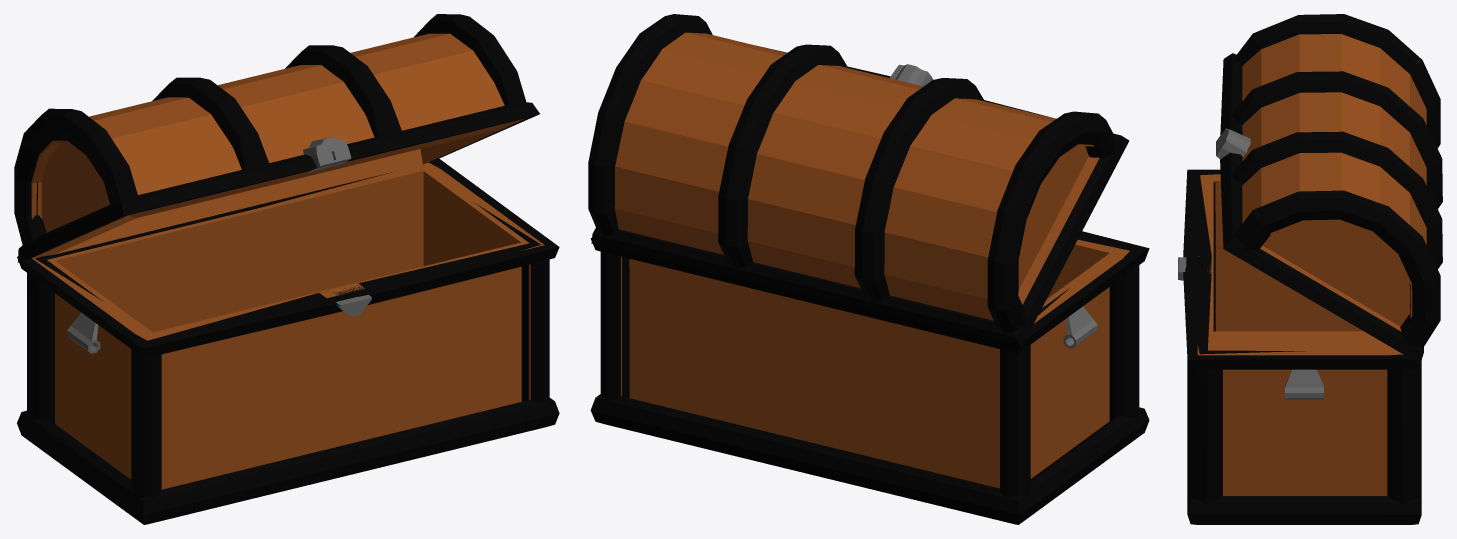
The model's file is Wooden Chest.fbx.
3 renders of one model, left to right at view 1: azimuth 30°, elevation 25°; view 2: azimuth 150°, elevation 25°; view 3: azimuth 270°, elevation 25°, orthographic. The views are drawn at different scales.
Parts seen in each view (by area): view 1: Chest Bottom, Chest Top; view 2: Chest Top, Chest Bottom; view 3: Chest Top, Chest Bottom.
Part boxes in pixels (x1,y1,x2,y2): Chest Bottom: [17, 158, 559, 524]; Chest Top: [14, 14, 539, 262]; Chest Top: [588, 14, 1129, 348]; Chest Bottom: [590, 231, 1149, 524]; Chest Top: [1216, 14, 1442, 363]; Chest Bottom: [1178, 169, 1421, 524].
Bounding box in the file's own units: 423 × 343 × 247.
